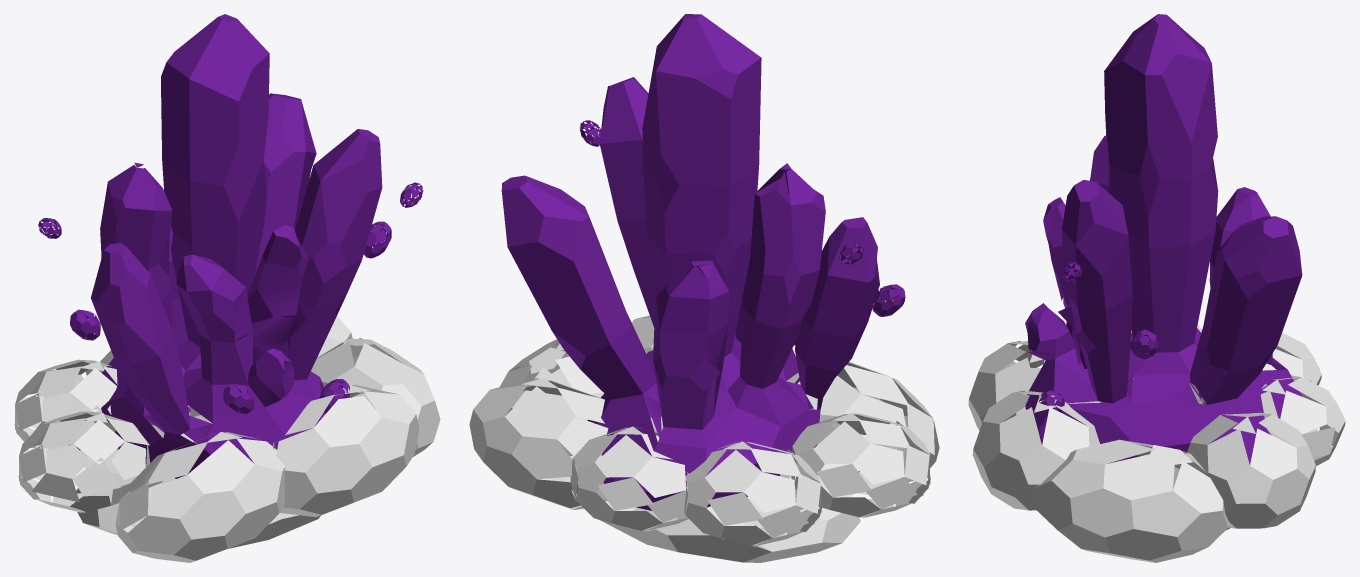
File: crystal_2.glb
The picture shows the model from 3 angles, left to right: view 1: azimuth 30°, elevation 25°; view 2: azimuth 150°, elevation 25°; view 3: azimuth 270°, elevation 25°; orthographic projection. The views are drawn at different scales.
Parts seen in each view (by area): view 1: crystal, crystal.001; view 2: crystal, crystal.001; view 3: crystal, crystal.001.
Boxes of the visible parts, x1=… form: crystal: x1=38, y1=14, x2=423, y2=478; crystal.001: x1=14, y1=316, x2=440, y2=562; crystal: x1=501, y1=14, x2=905, y2=510; crystal.001: x1=469, y1=315, x2=939, y2=562; crystal: x1=1025, y1=14, x2=1302, y2=464; crystal.001: x1=968, y1=324, x2=1345, y2=562.
Size of the model in its own units: 5.33 by 6.39 by 4.26.
